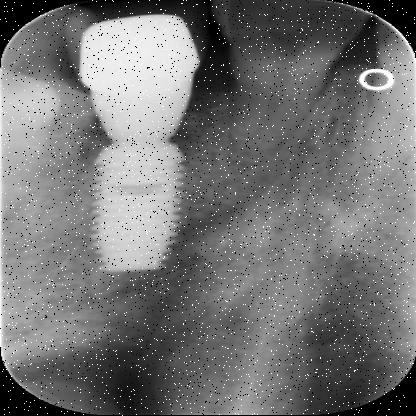Bicon: (86, 143, 190, 275)
